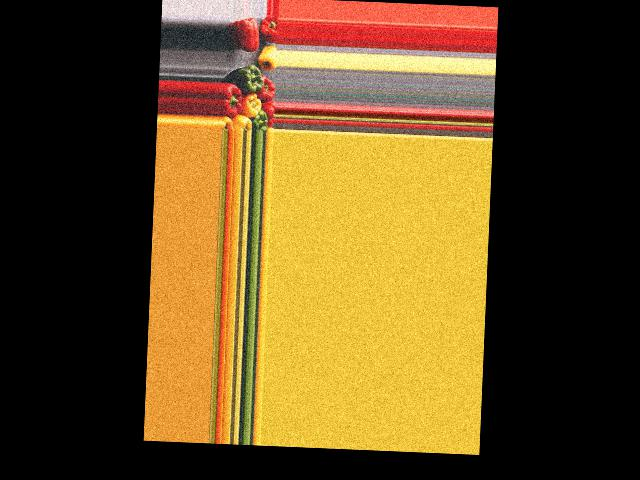bell_pepper: (259, 15, 276, 43)
